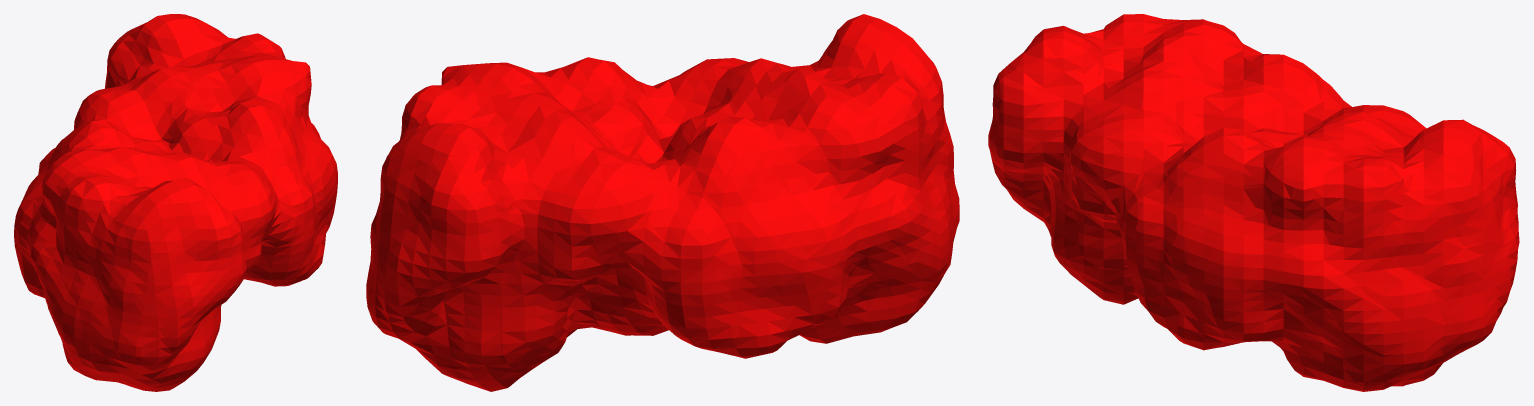
Rendered from gatD_coarse.dae.
3 renders of one model, left to right at view 1: azimuth 30°, elevation 25°; view 2: azimuth 150°, elevation 25°; view 3: azimuth 270°, elevation 25°, orthographic. The views are drawn at different scales.
Parts seen in each view (by area): view 1: gatD; view 2: gatD; view 3: gatD.
Boxes of the visible parts, box(x1,y1,x2,y2) form: gatD: box(14, 14, 337, 391); gatD: box(366, 14, 959, 391); gatD: box(988, 14, 1519, 391).
Size of the model in its own units: 76.38 by 49.07 by 89.75.
